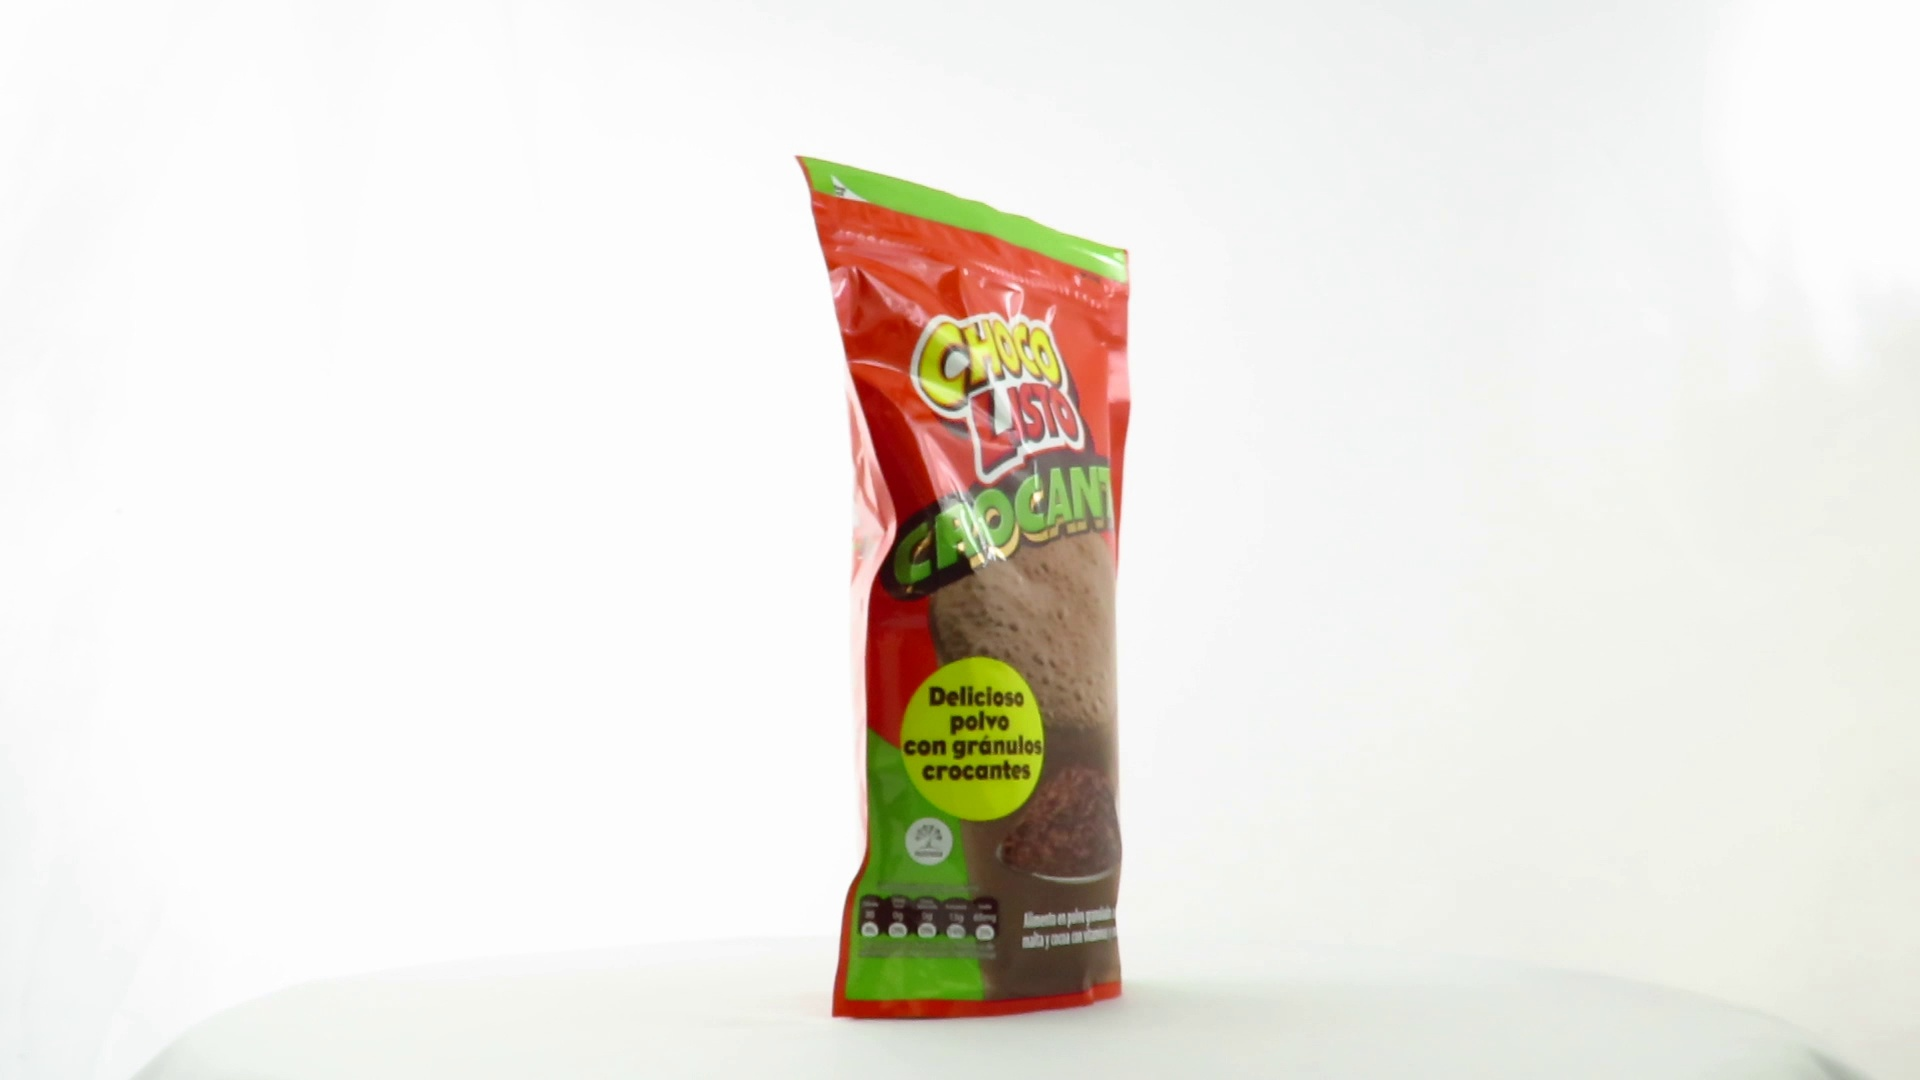COL0170102DYP50000: (790, 150, 1137, 1027)
